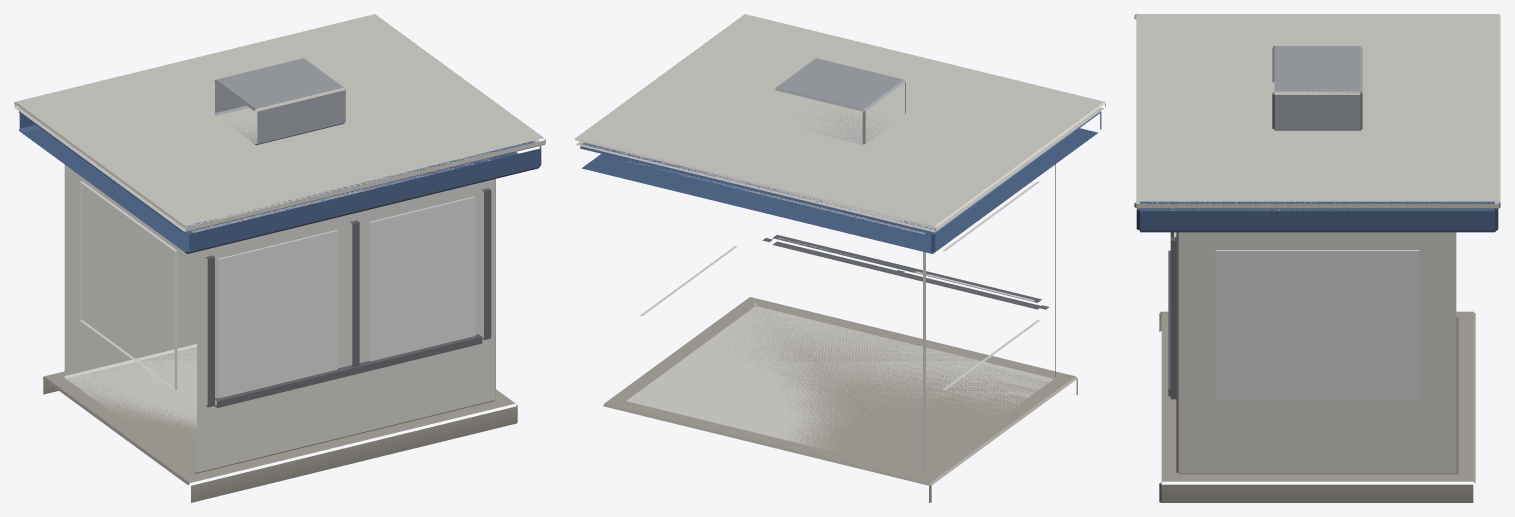
The model's file is gate_booth.glb.
The picture shows the model from 3 angles, left to right: view 1: azimuth 30°, elevation 25°; view 2: azimuth 150°, elevation 25°; view 3: azimuth 270°, elevation 25°; orthographic projection. The views are drawn at different scales.
Parts seen in each view (by area): view 1: gate_booth; view 2: gate_booth; view 3: gate_booth.
Part boxes in pixels (bbox=[...]): gate_booth: bbox=[14, 14, 545, 502]; gate_booth: bbox=[575, 14, 1105, 502]; gate_booth: bbox=[1134, 14, 1500, 502].
Bounding box in the file's own units: 3.96 × 3.4 × 3.24.
